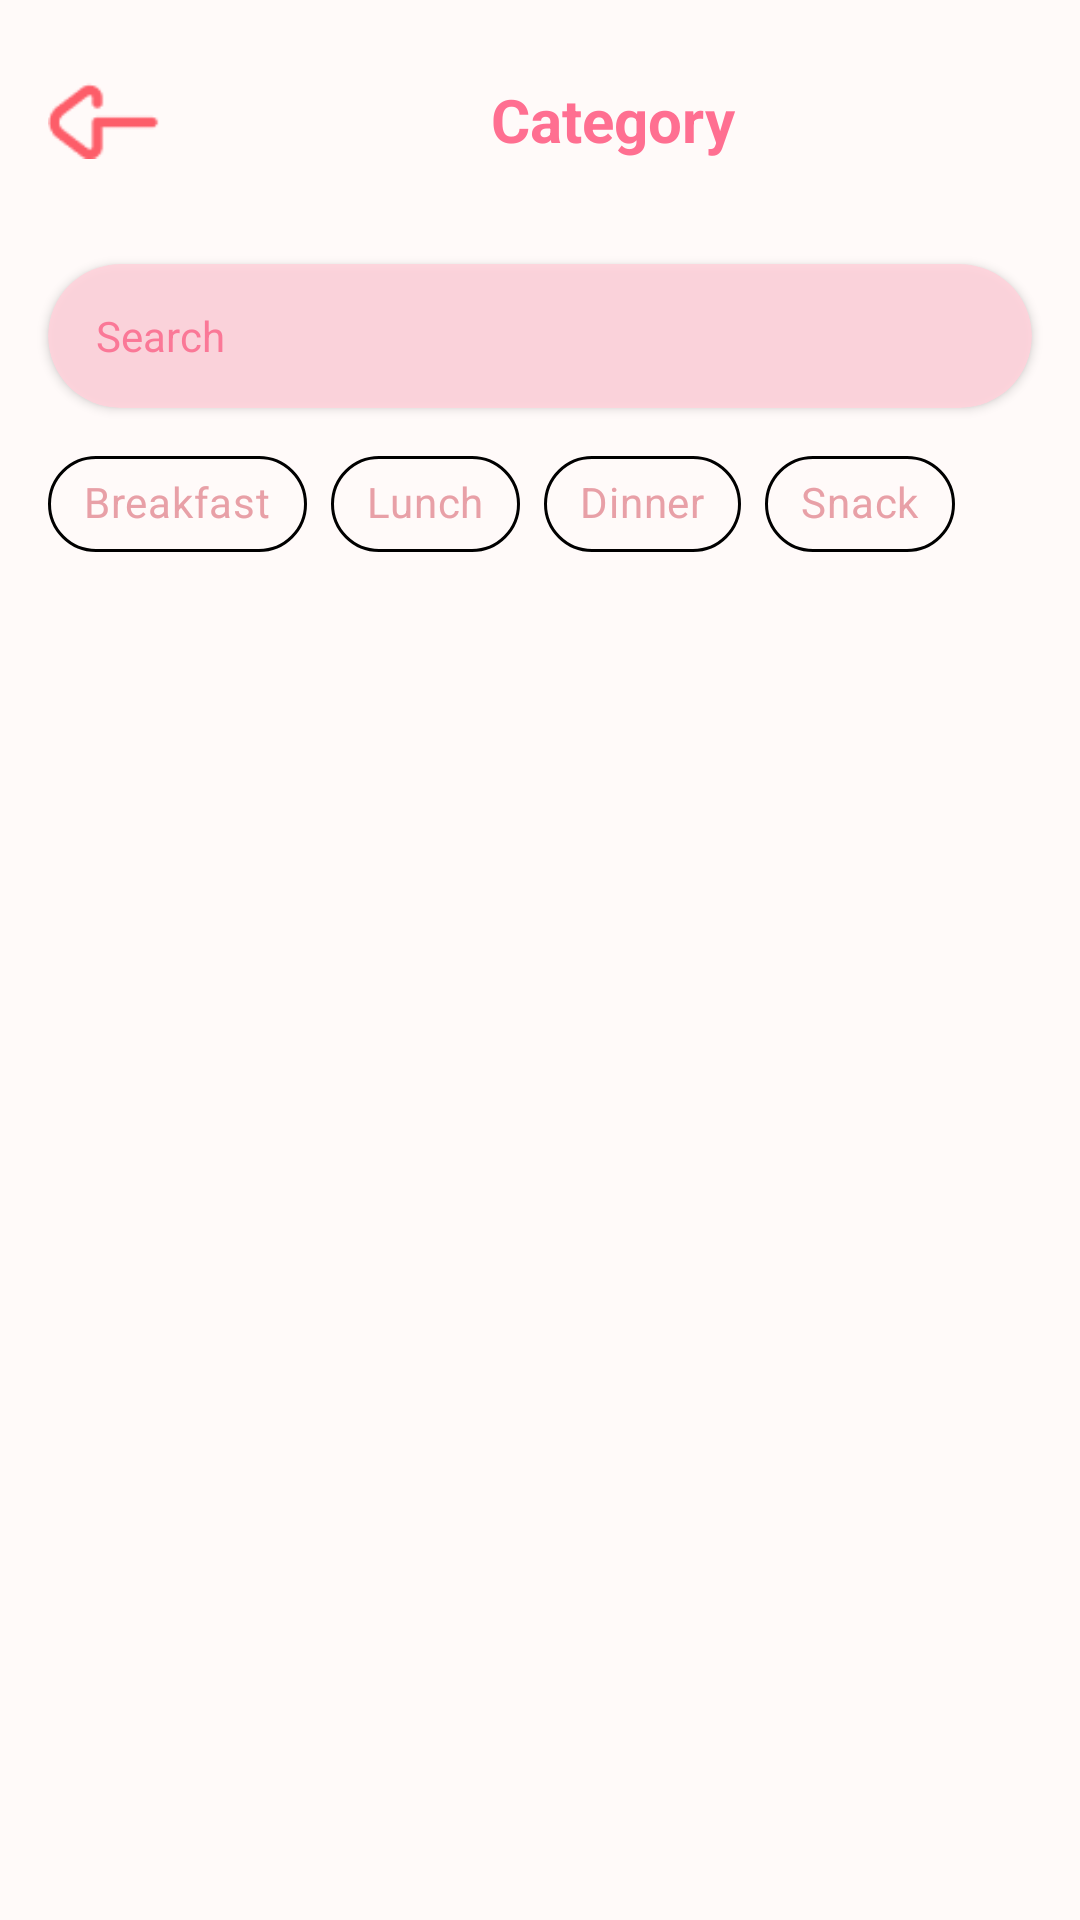

Icon bounding boxes for this 1080 × 1920 phone screenshot, format (x1, y1, x2, y2):
Back button: (48, 85, 158, 159)
